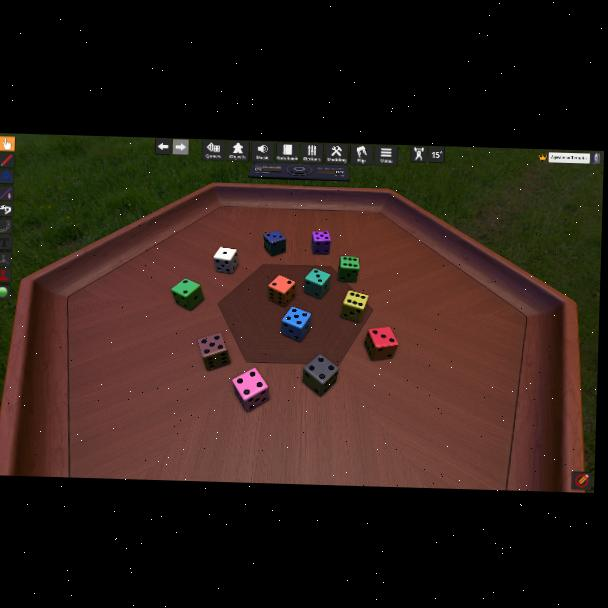d6: (232, 366, 270, 411), (302, 354, 339, 397), (197, 333, 229, 372), (364, 326, 397, 361), (171, 278, 204, 311), (281, 308, 311, 342), (266, 275, 295, 308), (340, 289, 368, 322), (304, 268, 330, 300), (212, 247, 237, 275), (338, 256, 360, 283), (263, 230, 285, 257), (311, 230, 331, 255)
